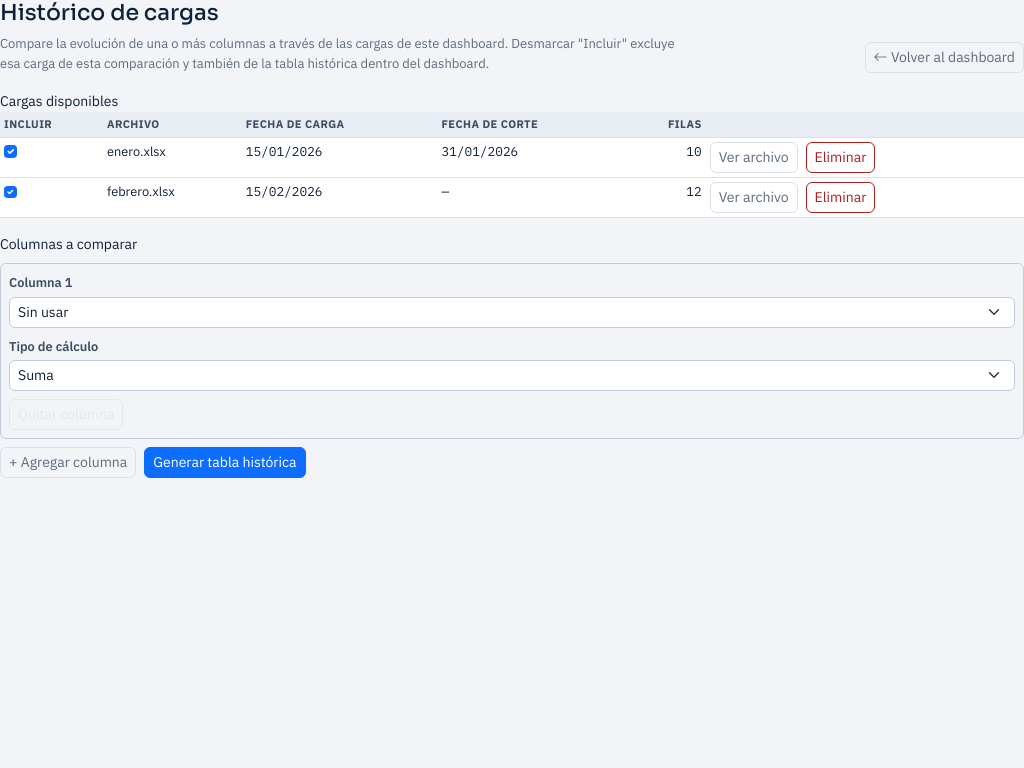
Test: DashboardHistoricoPage › "Ver archivo" muestra un error si falla la carga
Expected: the text "enero.xlsx" is shown, left=103, top=137, right=242, bottom=178
What coordinates should you click on to do the following:
click the button "Ver archivo" in the row of "enero.xlsx"
I would click on:
 (754, 157)
Its box is left=710, top=142, right=798, bottom=173.
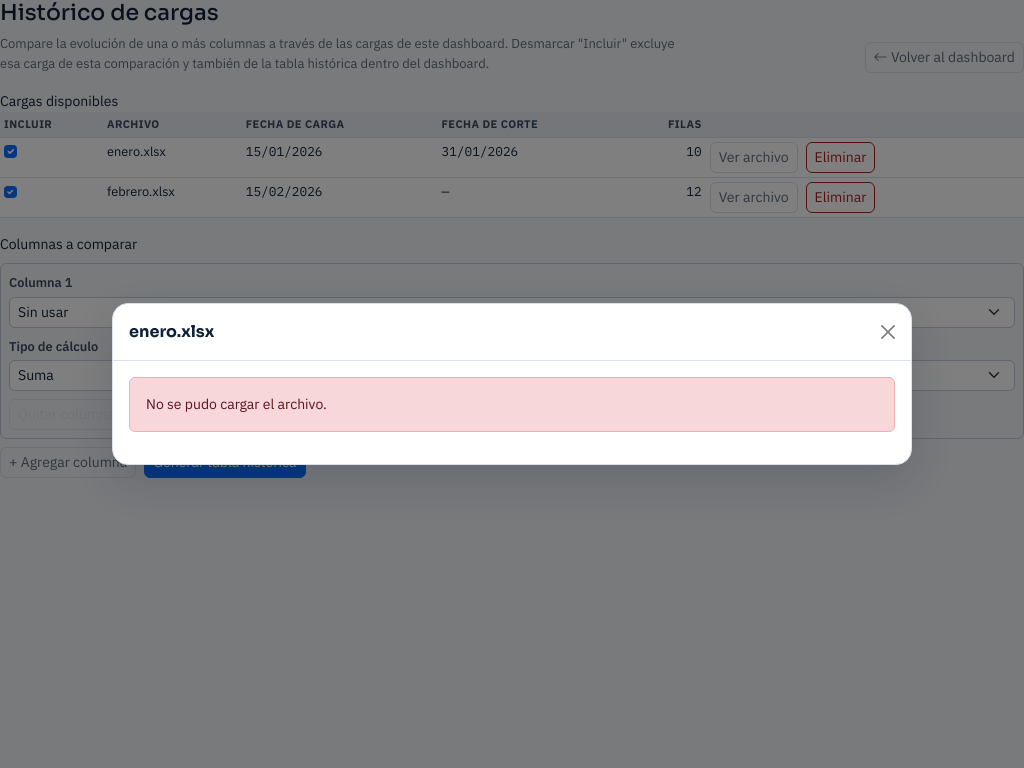
Expected: the text "No se pudo cargar el archivo." is shown, left=129, top=377, right=895, bottom=432
